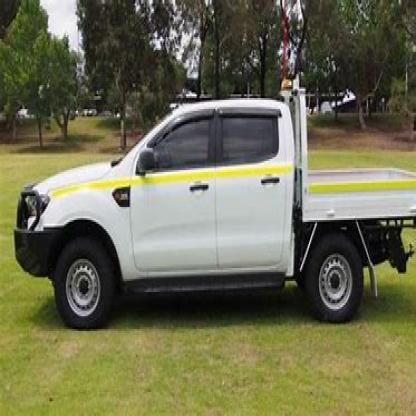light_vehicle: (11, 96, 415, 331)
